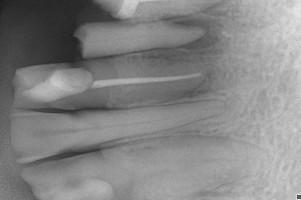Furcation Involvement: (138, 17, 225, 65), (182, 72, 216, 98)
